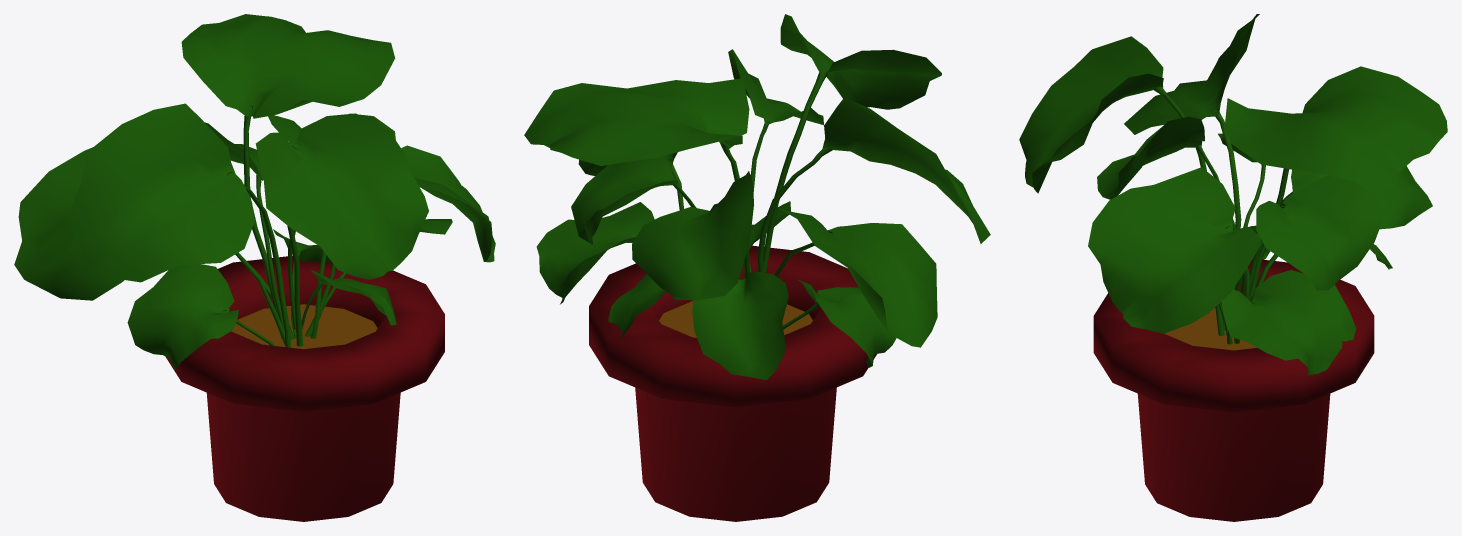
File: T_Plant_B.fbx
3 views of the same model, side by side, from view 1: azimuth 30°, elevation 25°; view 2: azimuth 150°, elevation 25°; view 3: azimuth 270°, elevation 25° (orthographic). The views are drawn at different scales.
Visible parts, largest first — view 1: T_Plant_B; view 2: T_Plant_B; view 3: T_Plant_B.
Part boxes in pixels (left/top/right/bottom): T_Plant_B: left=14, top=14, right=495, bottom=521; T_Plant_B: left=524, top=14, right=990, bottom=521; T_Plant_B: left=1019, top=14, right=1447, bottom=521.
Bounding box in the file's own units: 12.27 × 12.17 × 11.61.
